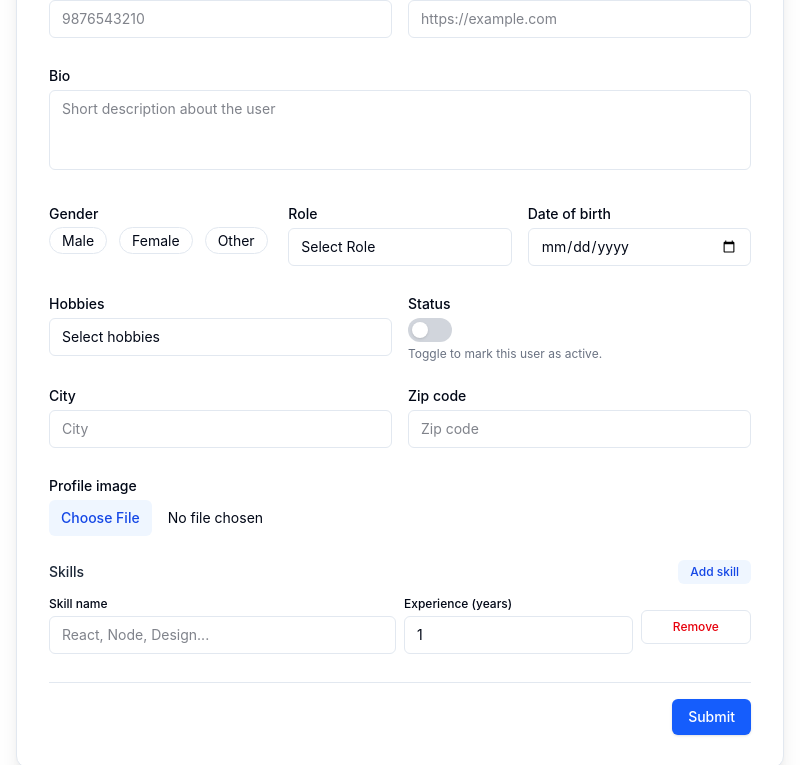
Test: UserForm › shows validation errors on empty submit
This screenshot has width=801, height=765.
(page scrolled)
Click the button "Submit".
click(712, 717)  # box [672, 699, 751, 735]
(page scrolled)
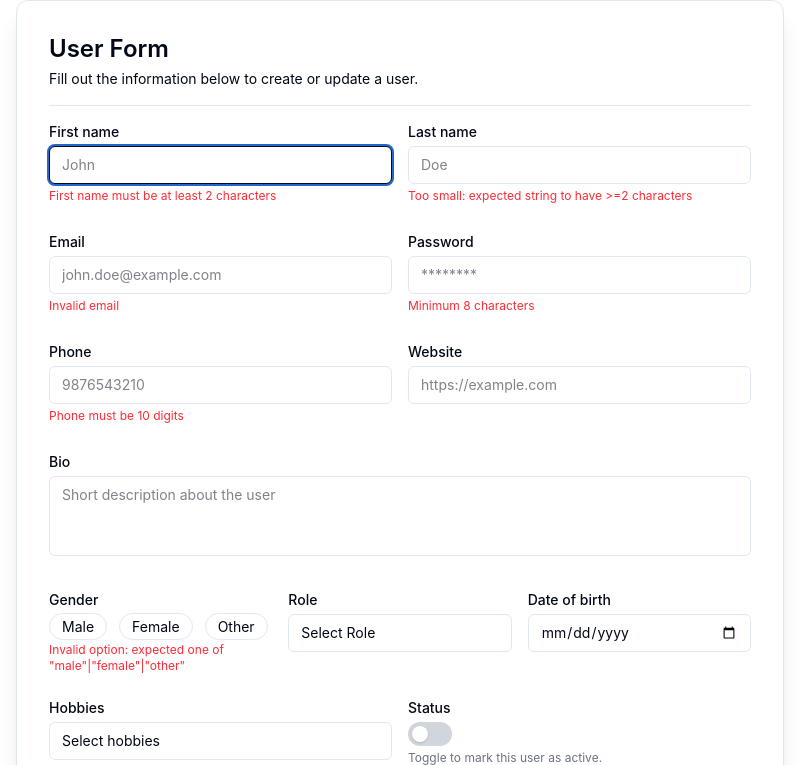
Expected: the text "First name must be at least 2 characters" is shown, [49, 188, 276, 203]
